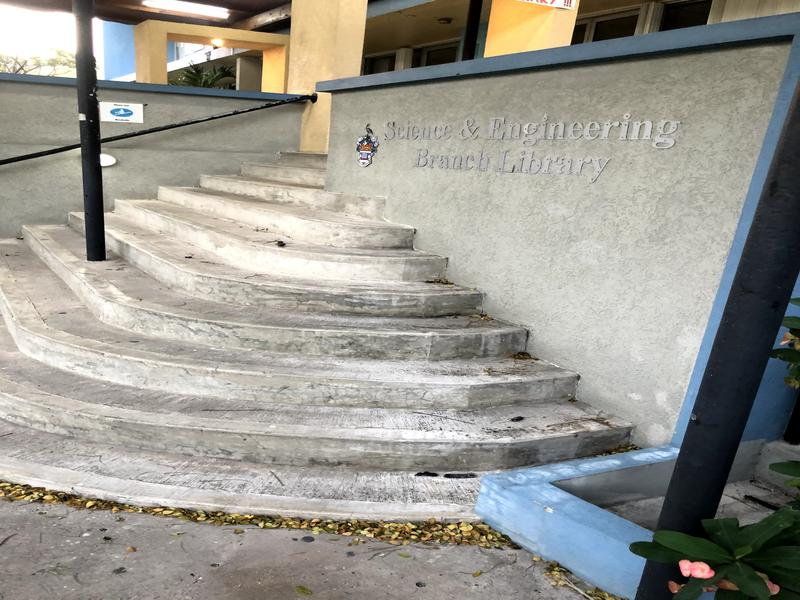18.0053644_-76.7493880_librarysign: (374, 103, 702, 203)
